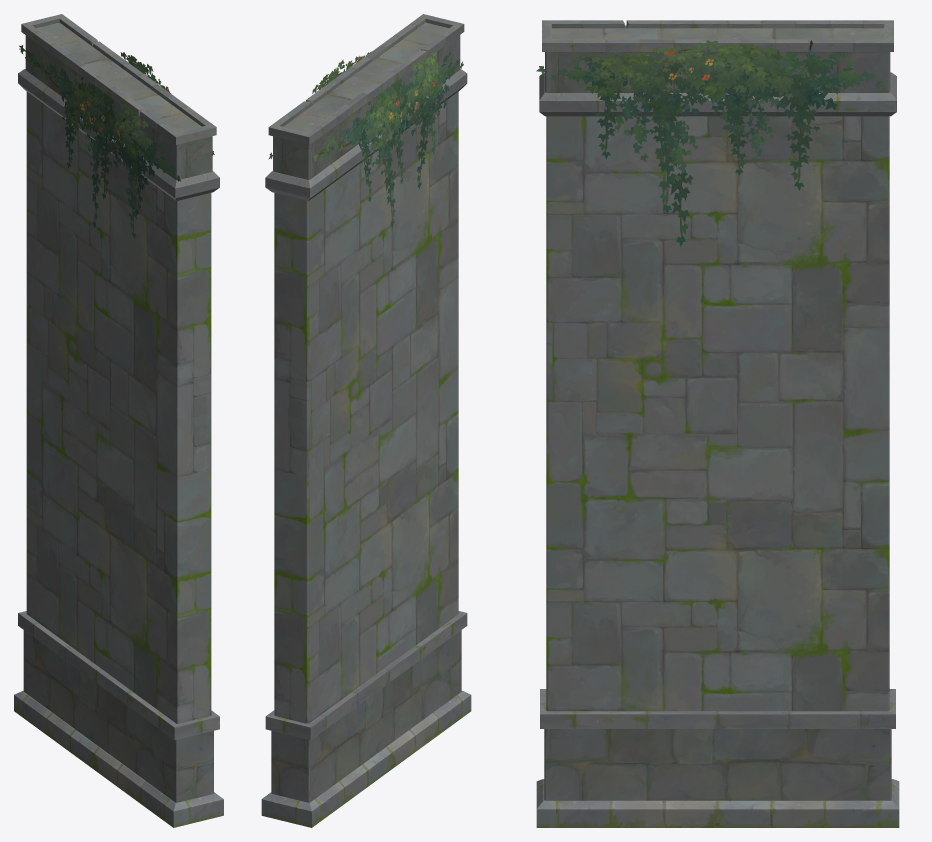
File: Area_MdBuild_SdWall01_07_Group.fbx
3 views of the same model, side by side, from view 1: azimuth 30°, elevation 25°; view 2: azimuth 150°, elevation 25°; view 3: azimuth 270°, elevation 25° (orthographic). The views are drawn at different scales.
Visible parts, largest first — view 1: Area_MdBuild_SdWall01_07_Lod0, Stages_LYLvy03_Vo (1); view 2: Area_MdBuild_SdWall01_07_Lod0, Stages_LYLvy03_Vo (1), Stages_LYLvy02_Vo (1); view 3: Area_MdBuild_SdWall01_07_Lod0, Stages_LYLvy02_Vo (1).
Part boxes in pixels (x1,y1,x2,y2): Area_MdBuild_SdWall01_07_Lod0: [14, 14, 223, 827]; Stages_LYLvy03_Vo (1): [19, 45, 180, 239]; Area_MdBuild_SdWall01_07_Lod0: [261, 14, 471, 827]; Stages_LYLvy03_Vo (1): [312, 51, 463, 227]; Stages_LYLvy02_Vo (1): [268, 51, 371, 159]; Area_MdBuild_SdWall01_07_Lod0: [536, 20, 899, 827]; Stages_LYLvy02_Vo (1): [550, 40, 884, 246].
Size of the model in its own units: 2.04 by 20.56 by 9.63.
Materials: 5 (5 with a texture image).
